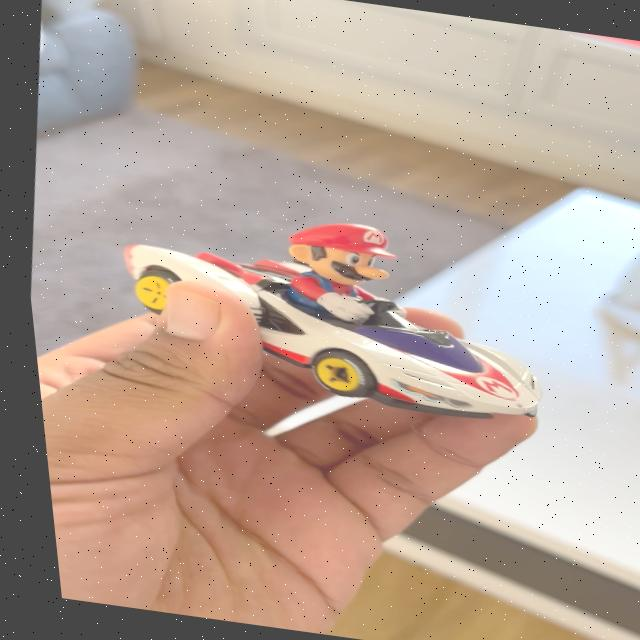mario: (79, 182, 572, 432)
